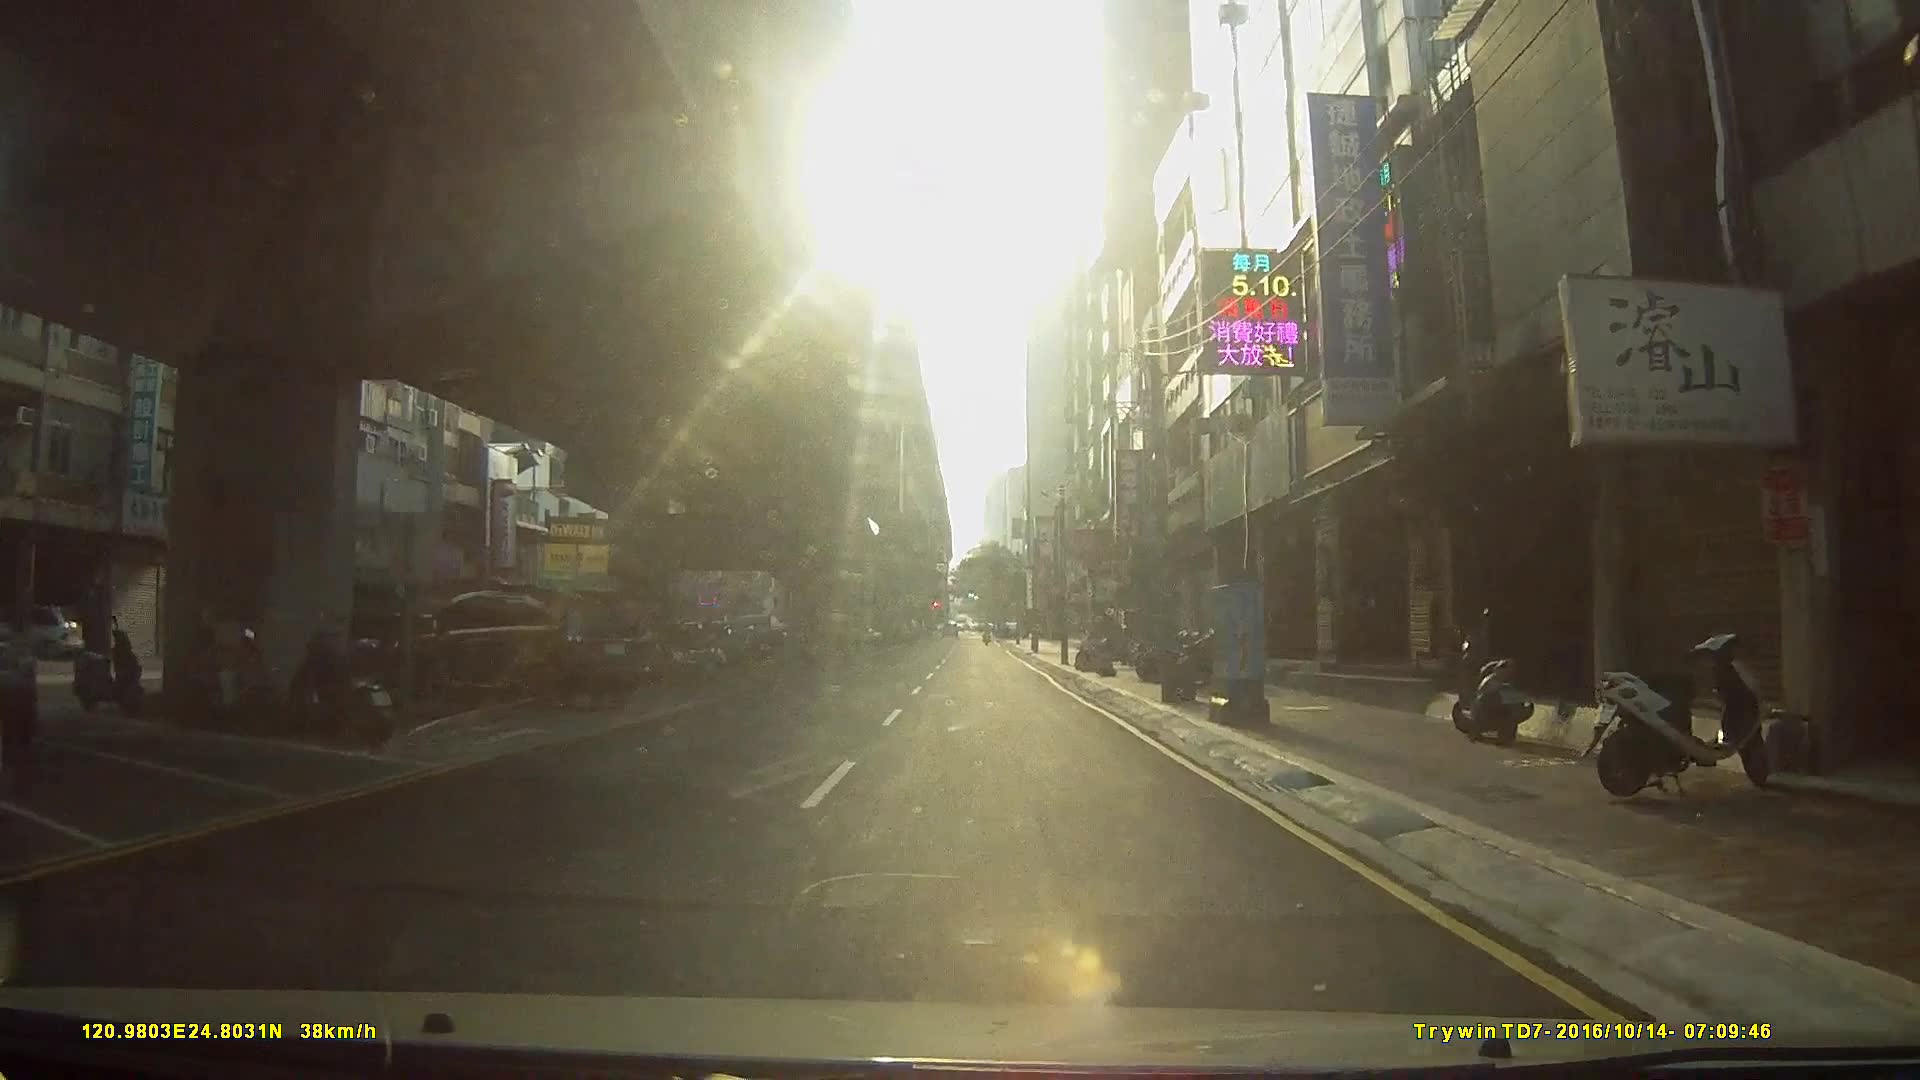vehicle: (392, 585, 654, 709), (272, 583, 421, 691), (597, 618, 723, 688), (11, 603, 83, 657)
